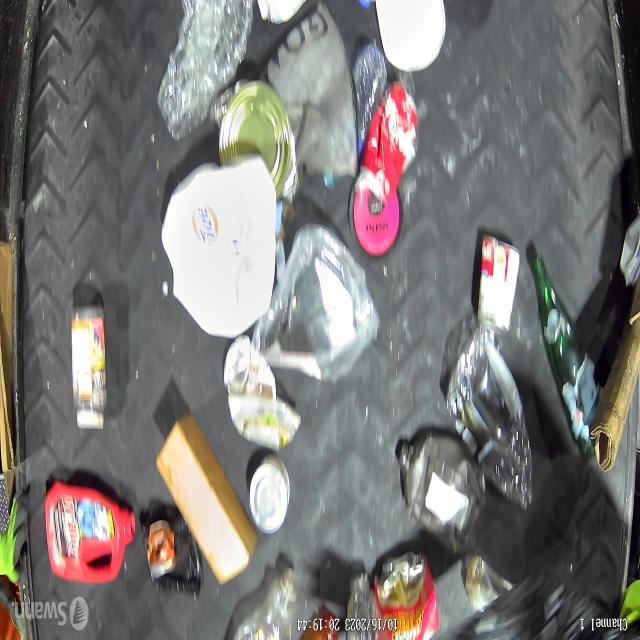can: (213, 80, 300, 200), (354, 77, 425, 200), (372, 557, 445, 640), (477, 234, 522, 336), (244, 455, 296, 536)
milk_jug: (160, 152, 275, 342), (378, 0, 450, 78)
non_white_jug: (40, 467, 138, 582)
plastic_bottle: (153, 0, 250, 135), (324, 42, 389, 200)
